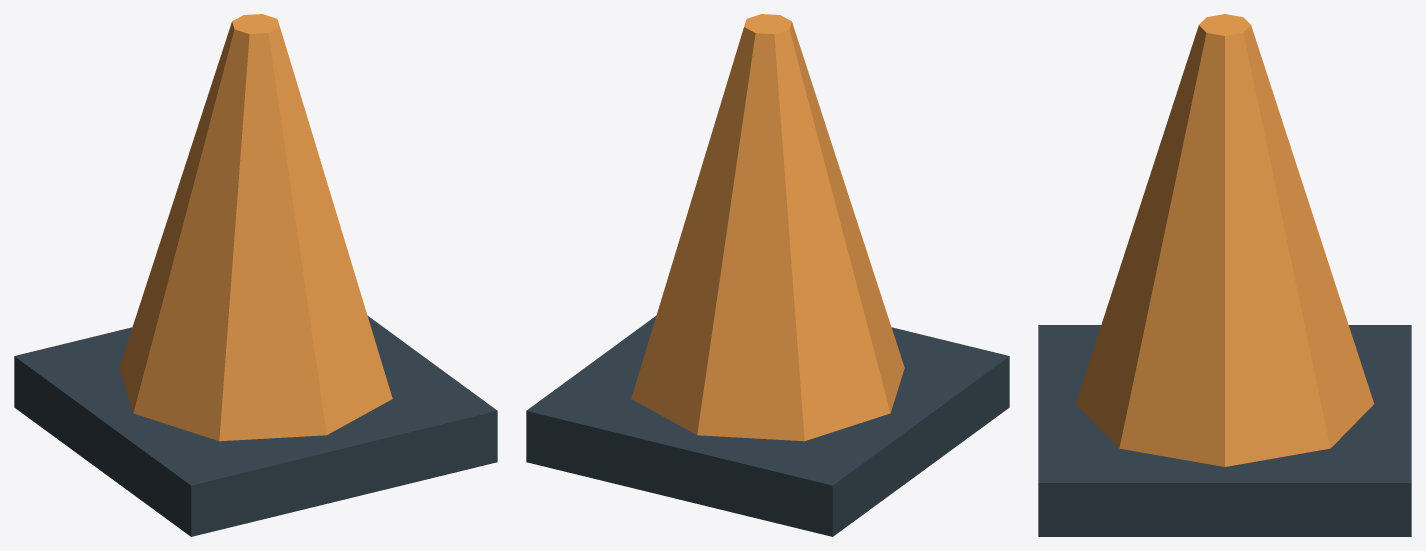
File: traffic_cone.glb
The picture shows the model from 3 angles, left to right: view 1: azimuth 30°, elevation 25°; view 2: azimuth 150°, elevation 25°; view 3: azimuth 270°, elevation 25°; orthographic projection. The views are drawn at different scales.
Visible parts, largest first — view 1: cone, foot; view 2: cone, foot; view 3: cone, foot.
Boxes of the visible parts, x1=… form: cone: x1=119, y1=14, x2=392, y2=441; foot: x1=14, y1=315, x2=497, y2=536; cone: x1=631, y1=14, x2=904, y2=441; foot: x1=526, y1=315, x2=1009, y2=536; cone: x1=1075, y1=14, x2=1374, y2=466; foot: x1=1038, y1=325, x2=1411, y2=536.
Size of the model in its own units: 0.5 by 0.64 by 0.5.
